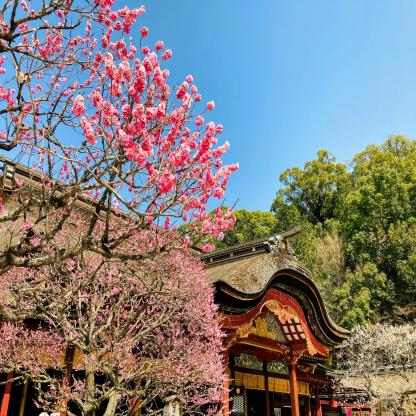Ume: (0, 0, 240, 254), (0, 216, 241, 416), (331, 322, 416, 416)
